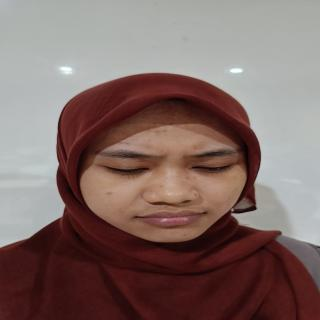Sedih: (74, 102, 250, 243)
